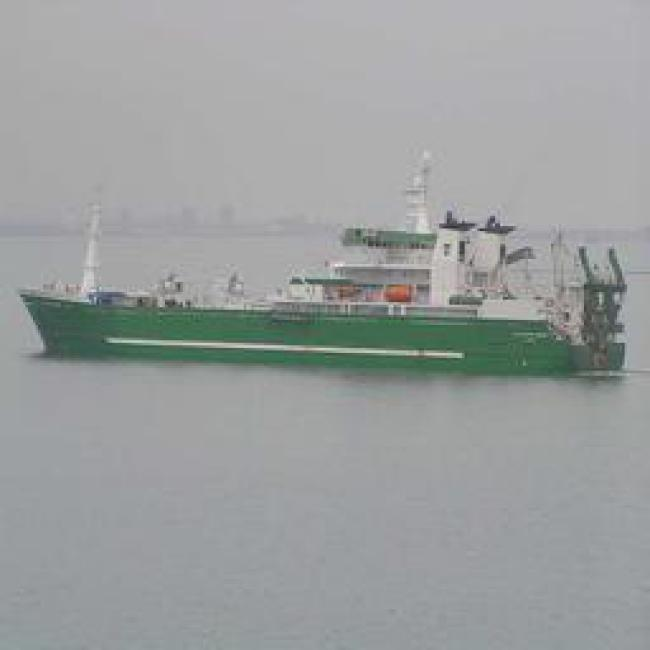Ship: (23, 203, 631, 379)
